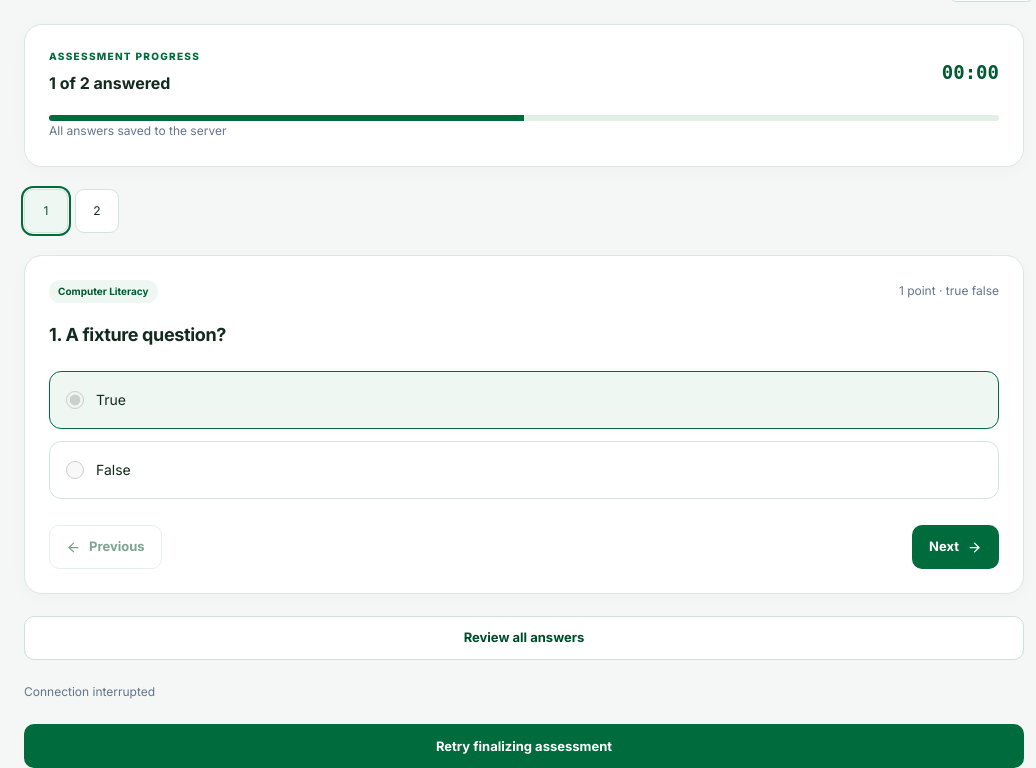
saved assessment result reason › lets the student retry a timed-out submission after a connection failure
(page scrolled)
Expected: the message "Connection interrupted" is shown, [24, 684, 155, 699]
Click the button "Retry finalizing assessment".
click(524, 746)  # box [24, 724, 1024, 767]
(page scrolled)
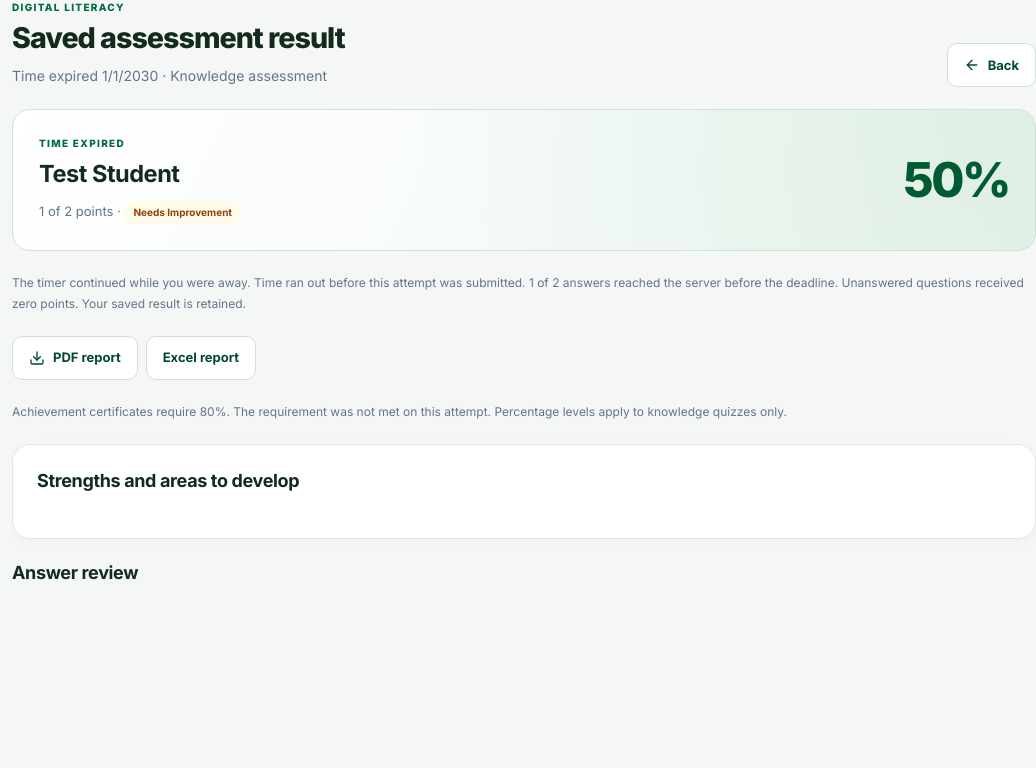
Expected: the text "Time expired" is shown, [39, 137, 125, 149]
